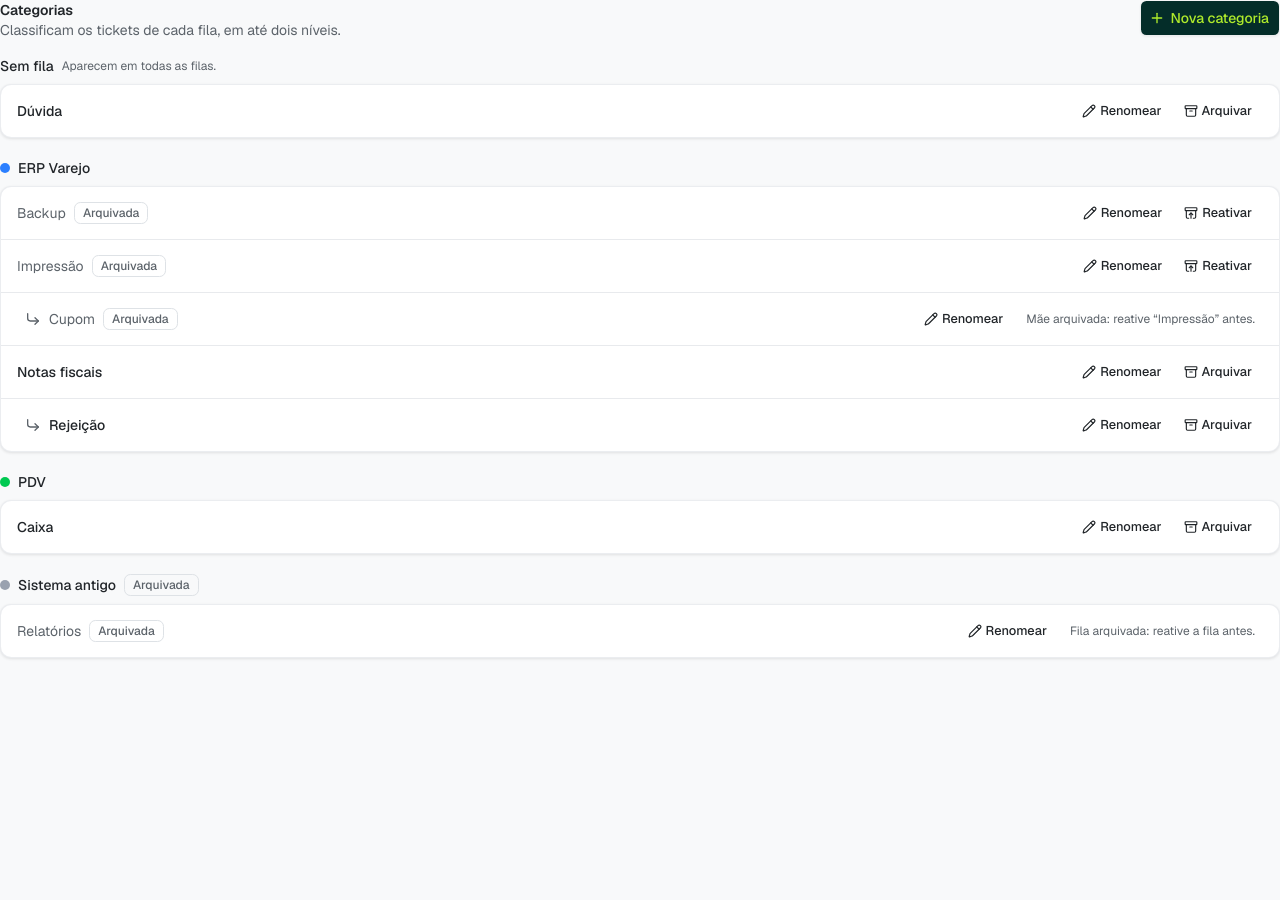
Test case: TicketCategoriesManager — criar › a mãe só lista as principais ativas da mesma fila
Click the button "Nova categoria".
click(1210, 18)  # box x1=1140 y1=0 x2=1279 y2=36
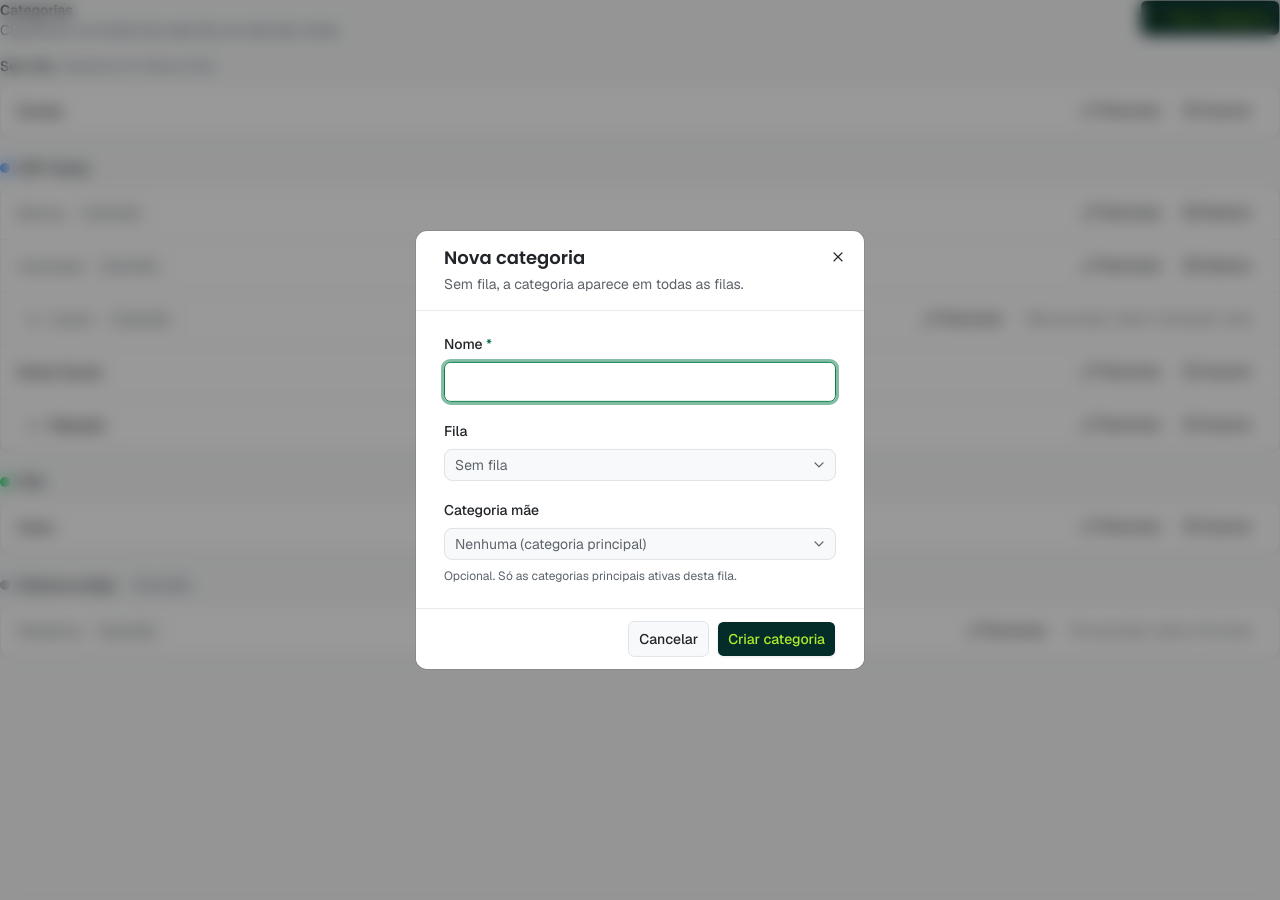
Click the dropdown named "Categoria mãe".
click(640, 544)  # box x1=444 y1=528 x2=836 y2=560
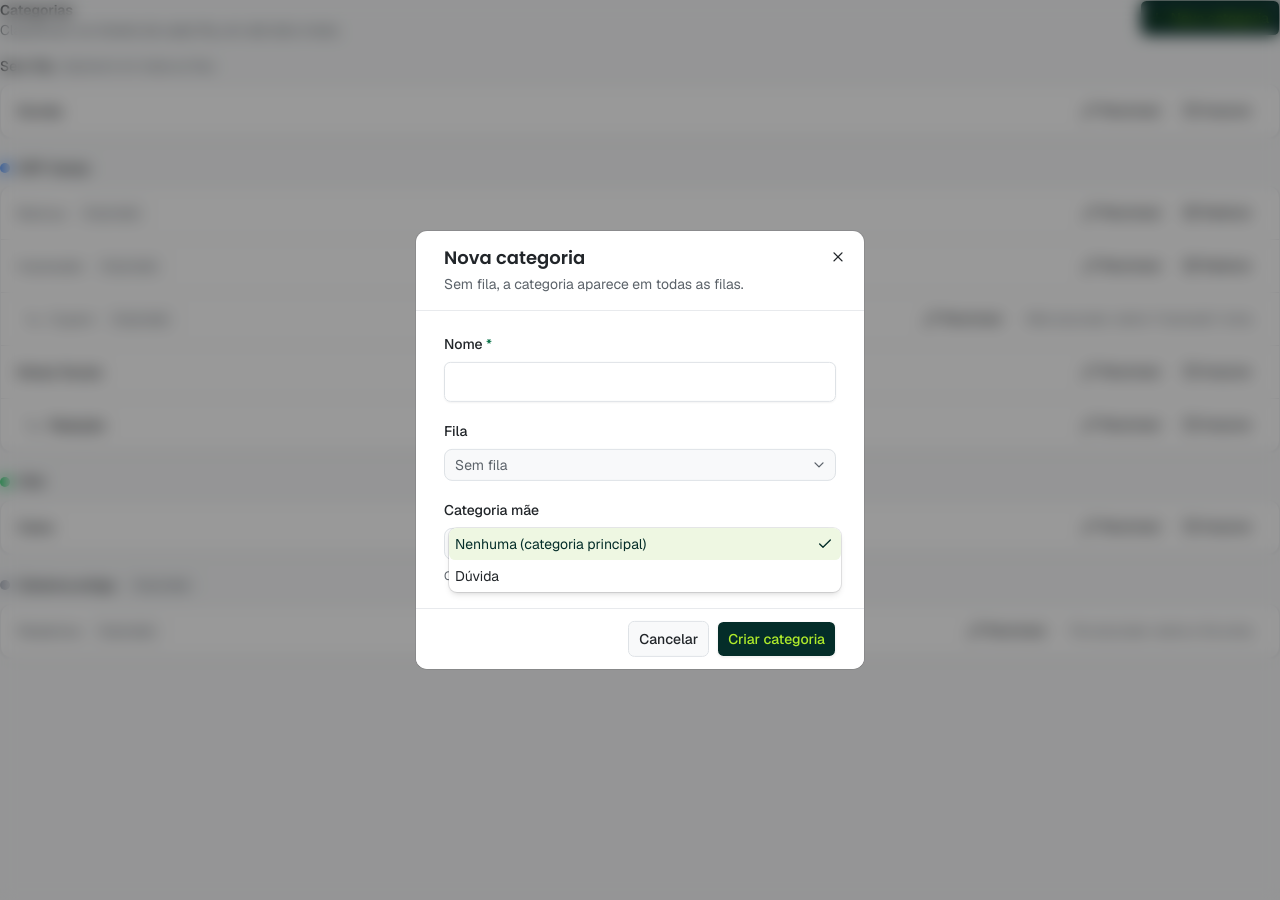
Now the options read "Nenhuma (categoria principal)", "Dúvida", in this order
Click the option "Nenhuma (categoria principal)".
click(645, 544)  # box x1=449 y1=528 x2=841 y2=560
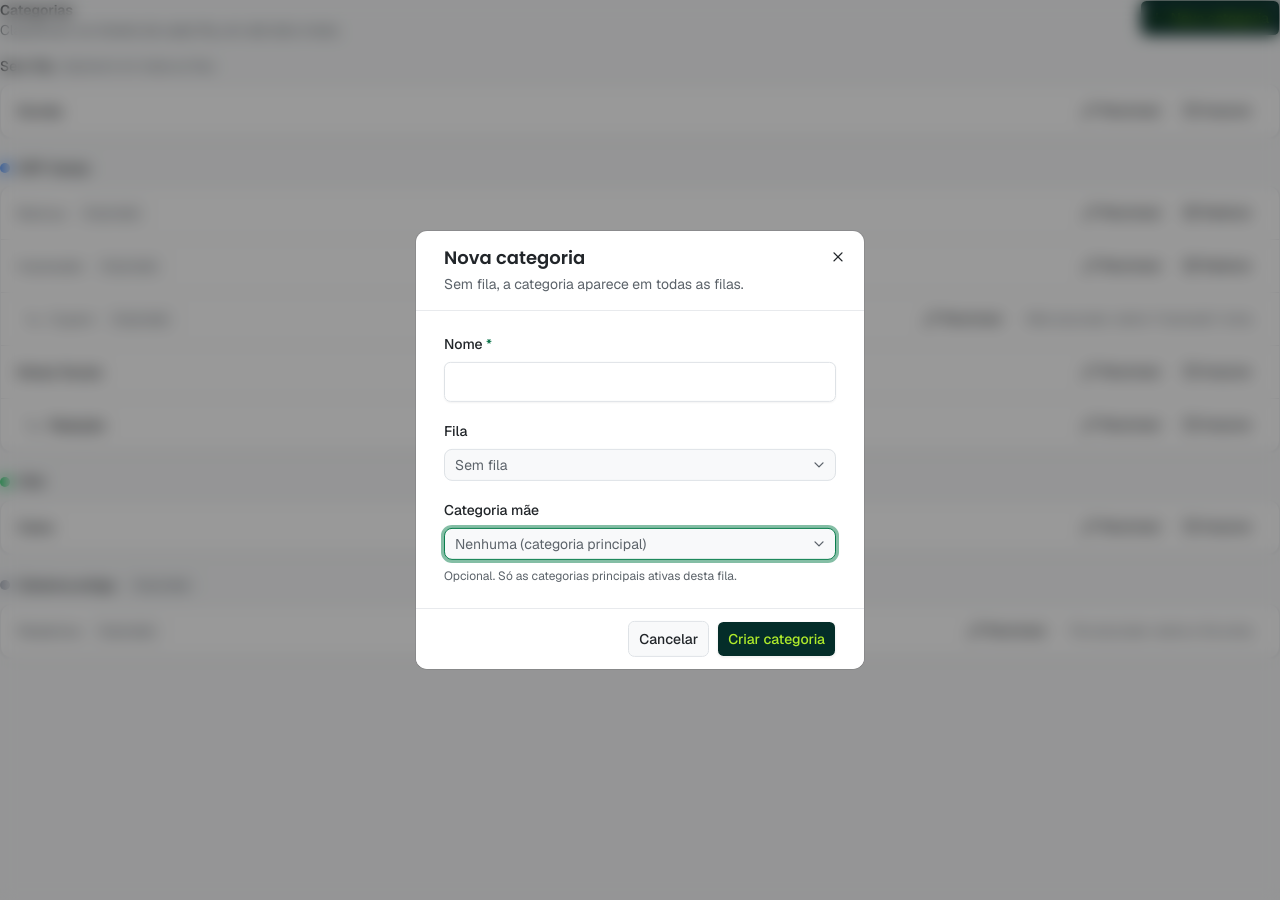
Click the dropdown labelled "fila".
click(481, 465)  # box x1=444 y1=449 x2=836 y2=481
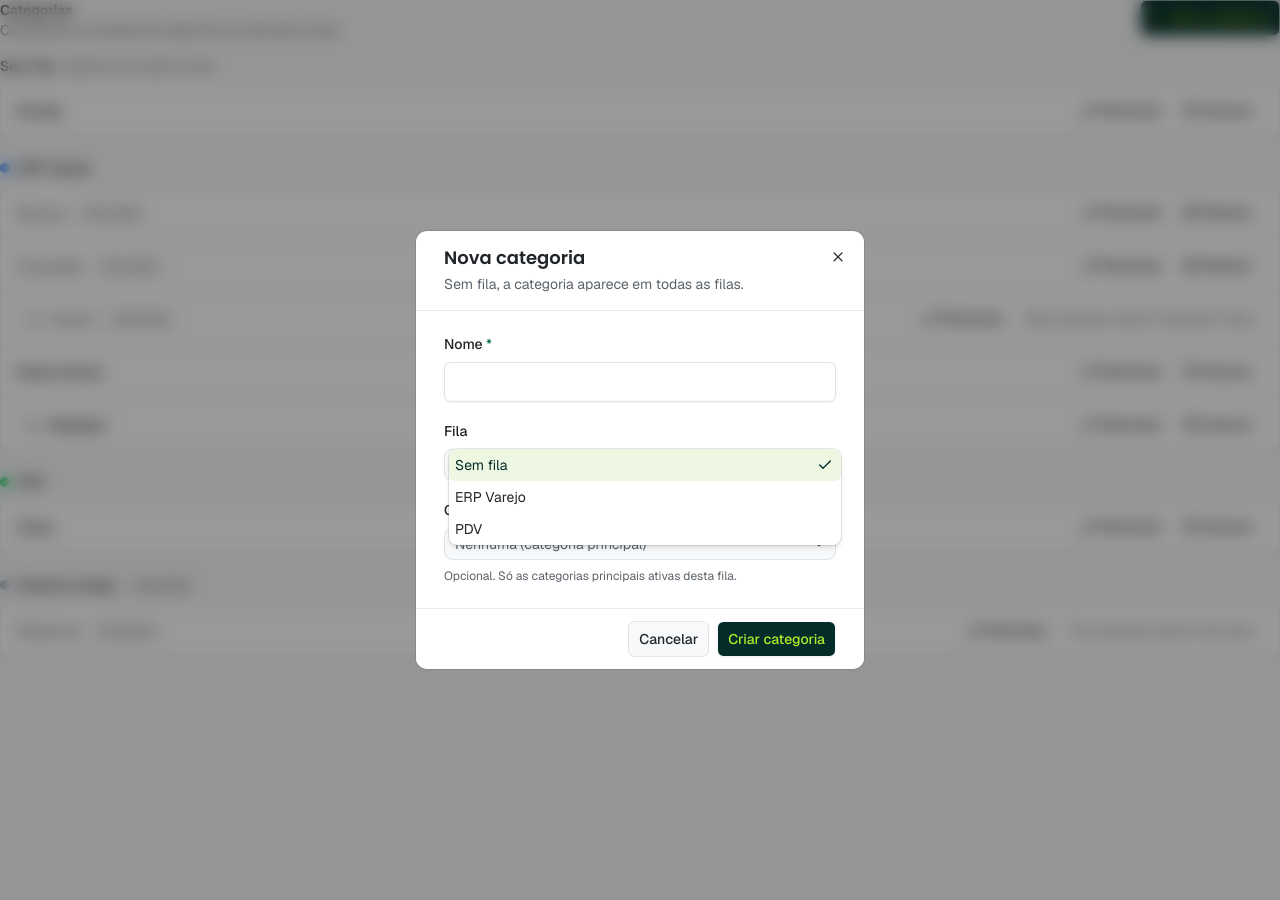
Click the option "ERP Varejo".
click(490, 497)  # box x1=455 y1=488 x2=526 y2=506
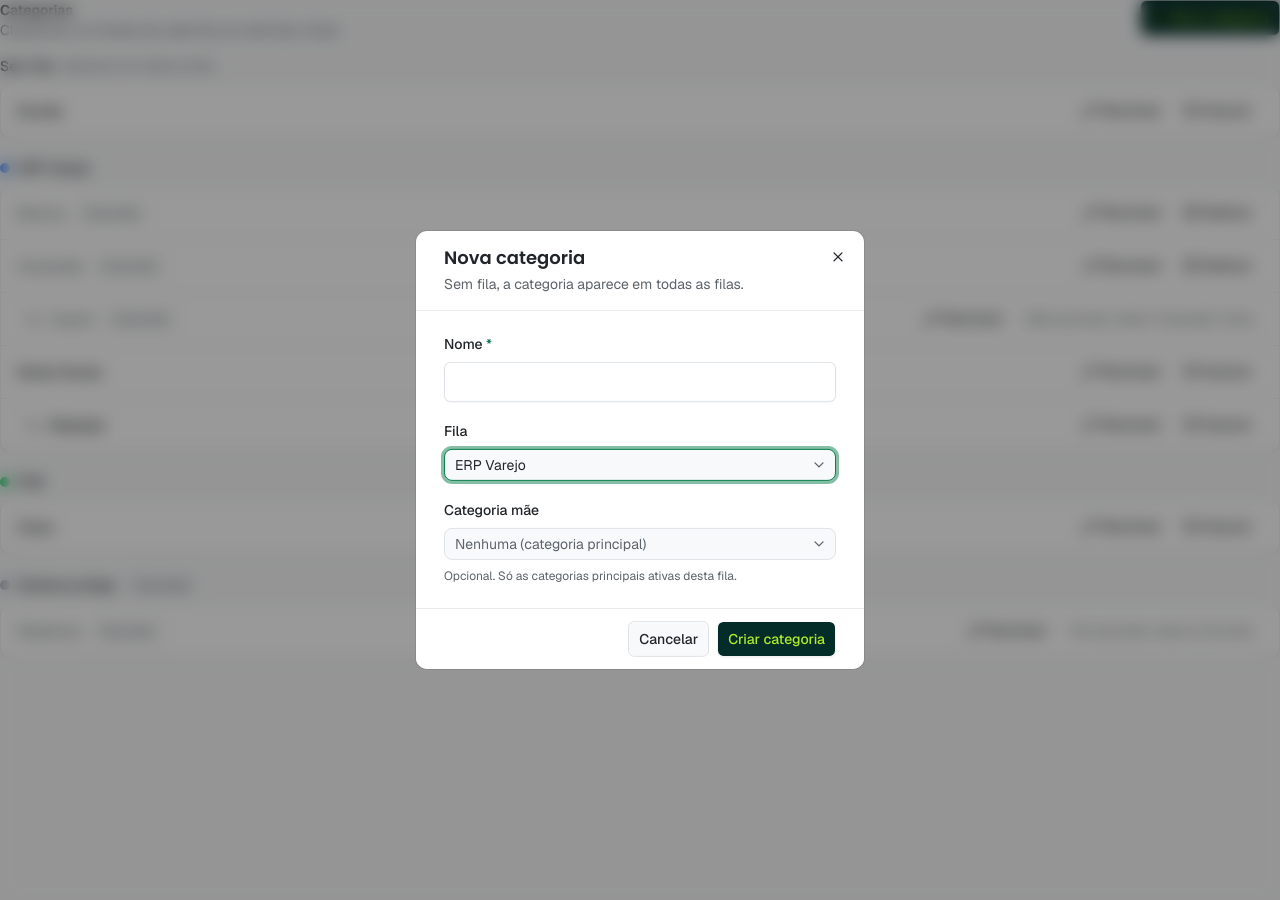
Click the dropdown named "Categoria mãe".
click(640, 544)  # box x1=444 y1=528 x2=836 y2=560
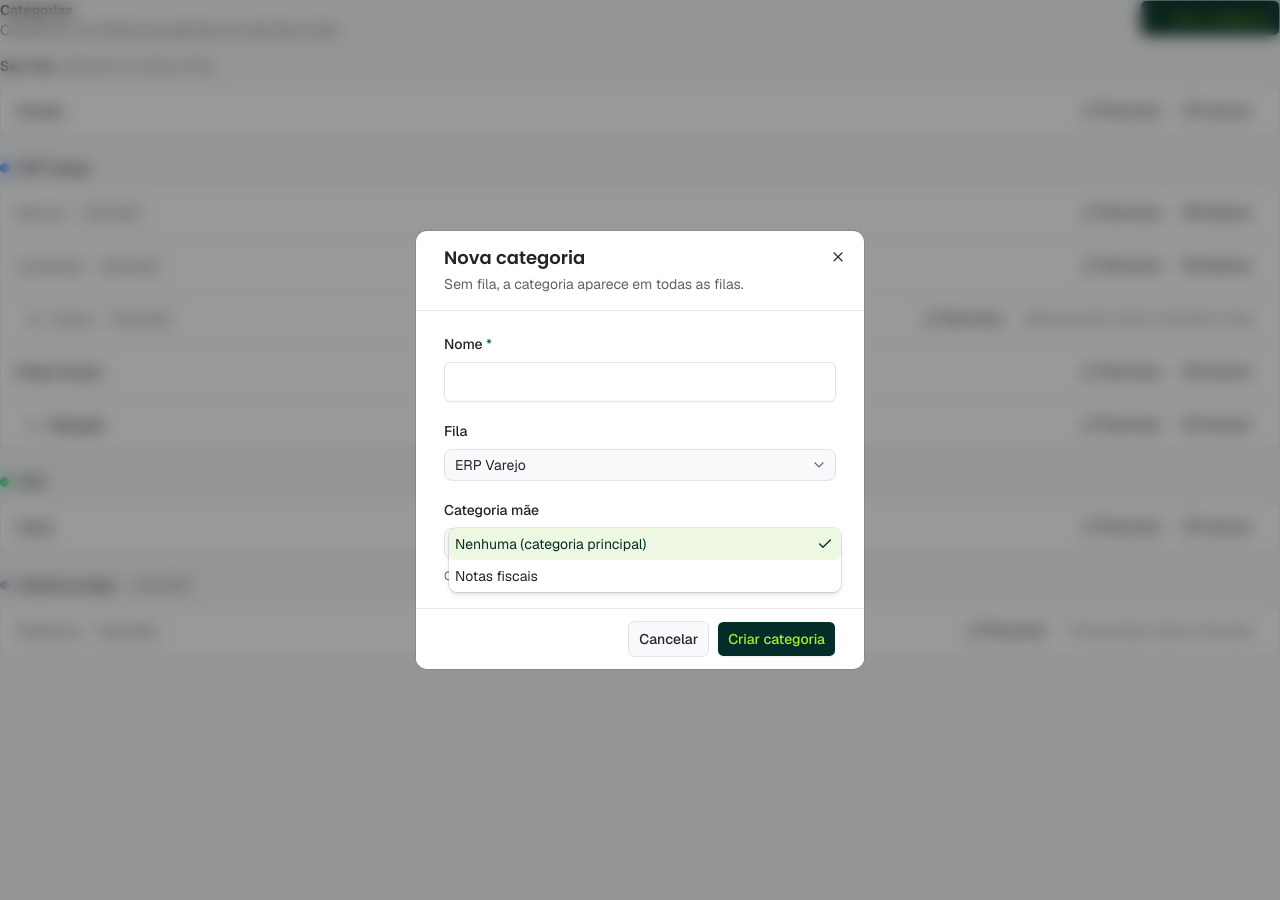
Now the options read "Nenhuma (categoria principal)", "Notas fiscais", in this order, box x1=449 y1=528 x2=841 y2=560; x1=455 y1=567 x2=538 y2=585
